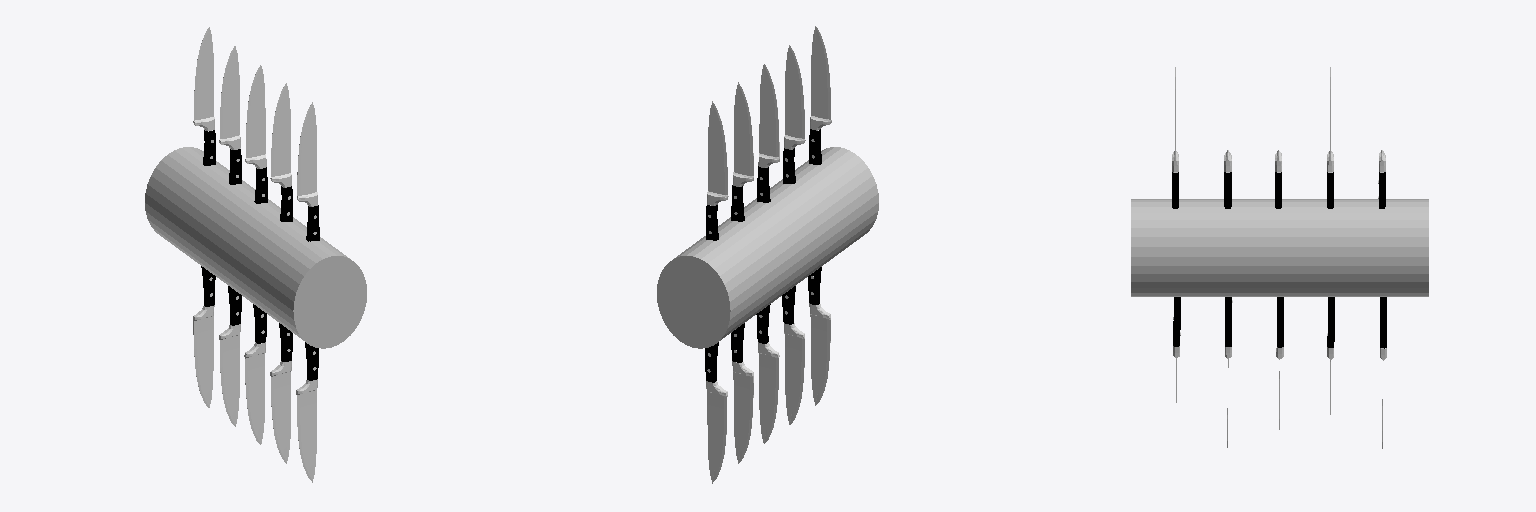
Rendered from donerbicaklar.obj.
The picture shows the model from 3 angles: view 1: azimuth 30°, elevation 25°; view 2: azimuth 150°, elevation 25°; view 3: azimuth 270°, elevation 25°; orthographic projection.
Visible parts, largest first — view 1: Cylinder, Chef_Knife_Plane.002, Chef_Knife_Plane.010_Chef_Knife_Plane.011, Chef_Knife_Plane.008, Chef_Knife_Plane.003, Chef_Knife_Plane.006_Chef_Knife_Plane.007, Chef_Knife_Plane.005, Chef_Knife_Plane.007_Chef_Knife_Plane.009, Chef_Knife_Plane.001, Chef_Knife_Plane.009_Chef_Knife_Plane.010, Chef_Knife_Plane.004_Chef_Knife_Plane.006; view 2: Cylinder, Chef_Knife_Plane.001, Chef_Knife_Plane.008, Chef_Knife_Plane.005, Chef_Knife_Plane.003, Chef_Knife_Plane.002, Chef_Knife_Plane.010_Chef_Knife_Plane.011, Chef_Knife_Plane.006_Chef_Knife_Plane.007, Chef_Knife_Plane.004_Chef_Knife_Plane.006, Chef_Knife_Plane.009_Chef_Knife_Plane.010, Chef_Knife_Plane.007_Chef_Knife_Plane.009; view 3: Cylinder.
Part boxes in pixels (x1,y1,x2,y2): Cylinder: (145,147,366,348); Chef_Knife_Plane.002: (219,46,241,184); Chef_Knife_Plane.010_Chef_Knife_Plane.011: (193,266,215,407); Chef_Knife_Plane.008: (245,65,267,203); Chef_Knife_Plane.003: (193,27,215,165); Chef_Knife_Plane.006_Chef_Knife_Plane.007: (219,286,241,426); Chef_Knife_Plane.005: (270,83,292,221); Chef_Knife_Plane.007_Chef_Knife_Plane.009: (296,342,318,482); Chef_Knife_Plane.001: (297,102,319,241); Chef_Knife_Plane.009_Chef_Knife_Plane.010: (270,323,292,463); Chef_Knife_Plane.004_Chef_Knife_Plane.006: (244,304,266,444); Cylinder: (657,147,878,348); Chef_Knife_Plane.001: (809,26,831,164); Chef_Knife_Plane.008: (757,64,779,202); Chef_Knife_Plane.005: (783,45,805,183); Chef_Knife_Plane.003: (706,101,728,240); Chef_Knife_Plane.002: (731,82,753,221); Chef_Knife_Plane.010_Chef_Knife_Plane.011: (705,342,727,483); Chef_Knife_Plane.006_Chef_Knife_Plane.007: (731,323,753,463); Chef_Knife_Plane.004_Chef_Knife_Plane.006: (756,304,779,443); Chef_Knife_Plane.009_Chef_Knife_Plane.010: (782,286,804,424); Chef_Knife_Plane.007_Chef_Knife_Plane.009: (808,267,830,405); Cylinder: (1131,199,1428,296).
Bounding box in the file's own units: 0.1638 × 0.8108 × 0.5715.